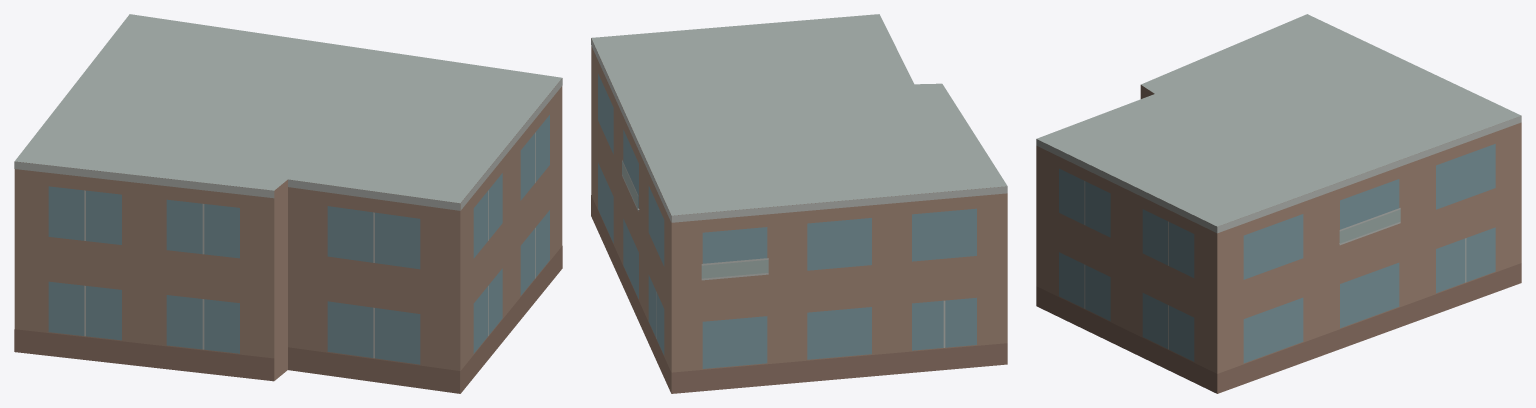
The model's file is survey-upis-32930535.glb.
The picture shows the model from 3 angles, left to right: view 1: azimuth 30°, elevation 25°; view 2: azimuth 150°, elevation 25°; view 3: azimuth 270°, elevation 25°; orthographic projection. The views are drawn at different scales.
Visible parts, largest first — view 1: survey-upis-32930535.tmp; view 2: survey-upis-32930535.tmp; view 3: survey-upis-32930535.tmp.
Part boxes in pixels (x1=…): survey-upis-32930535.tmp: x1=14, y1=14, x2=562, y2=393; survey-upis-32930535.tmp: x1=591, y1=14, x2=1007, y2=393; survey-upis-32930535.tmp: x1=1036, y1=14, x2=1521, y2=393.
Size of the model in its own units: 16.65 by 6.1 by 16.06.
